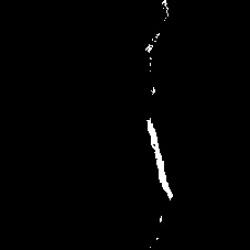crack: (149, 119, 174, 199), (147, 33, 162, 54), (164, 2, 169, 18), (159, 214, 164, 223), (153, 86, 157, 93)
